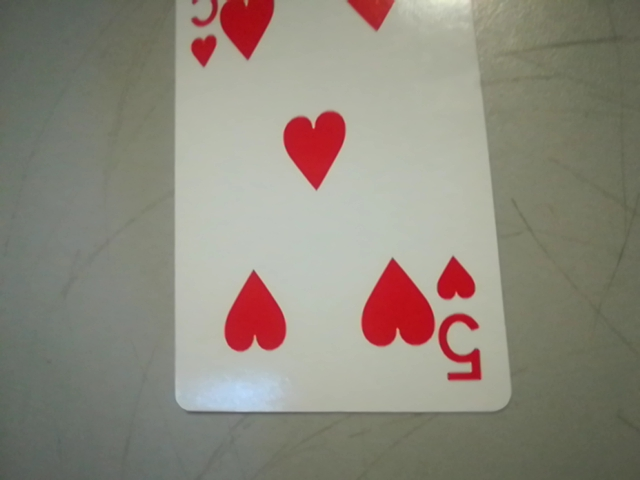hx 5: (436, 251, 505, 394)
